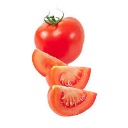tomato: (34, 17, 84, 63), (46, 83, 97, 117), (45, 63, 95, 87), (29, 49, 69, 75)
